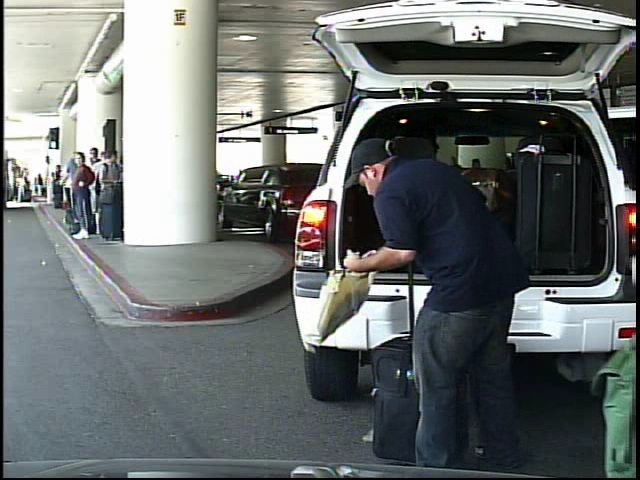person: (333, 116, 529, 480), (17, 174, 28, 205), (35, 171, 46, 198)
